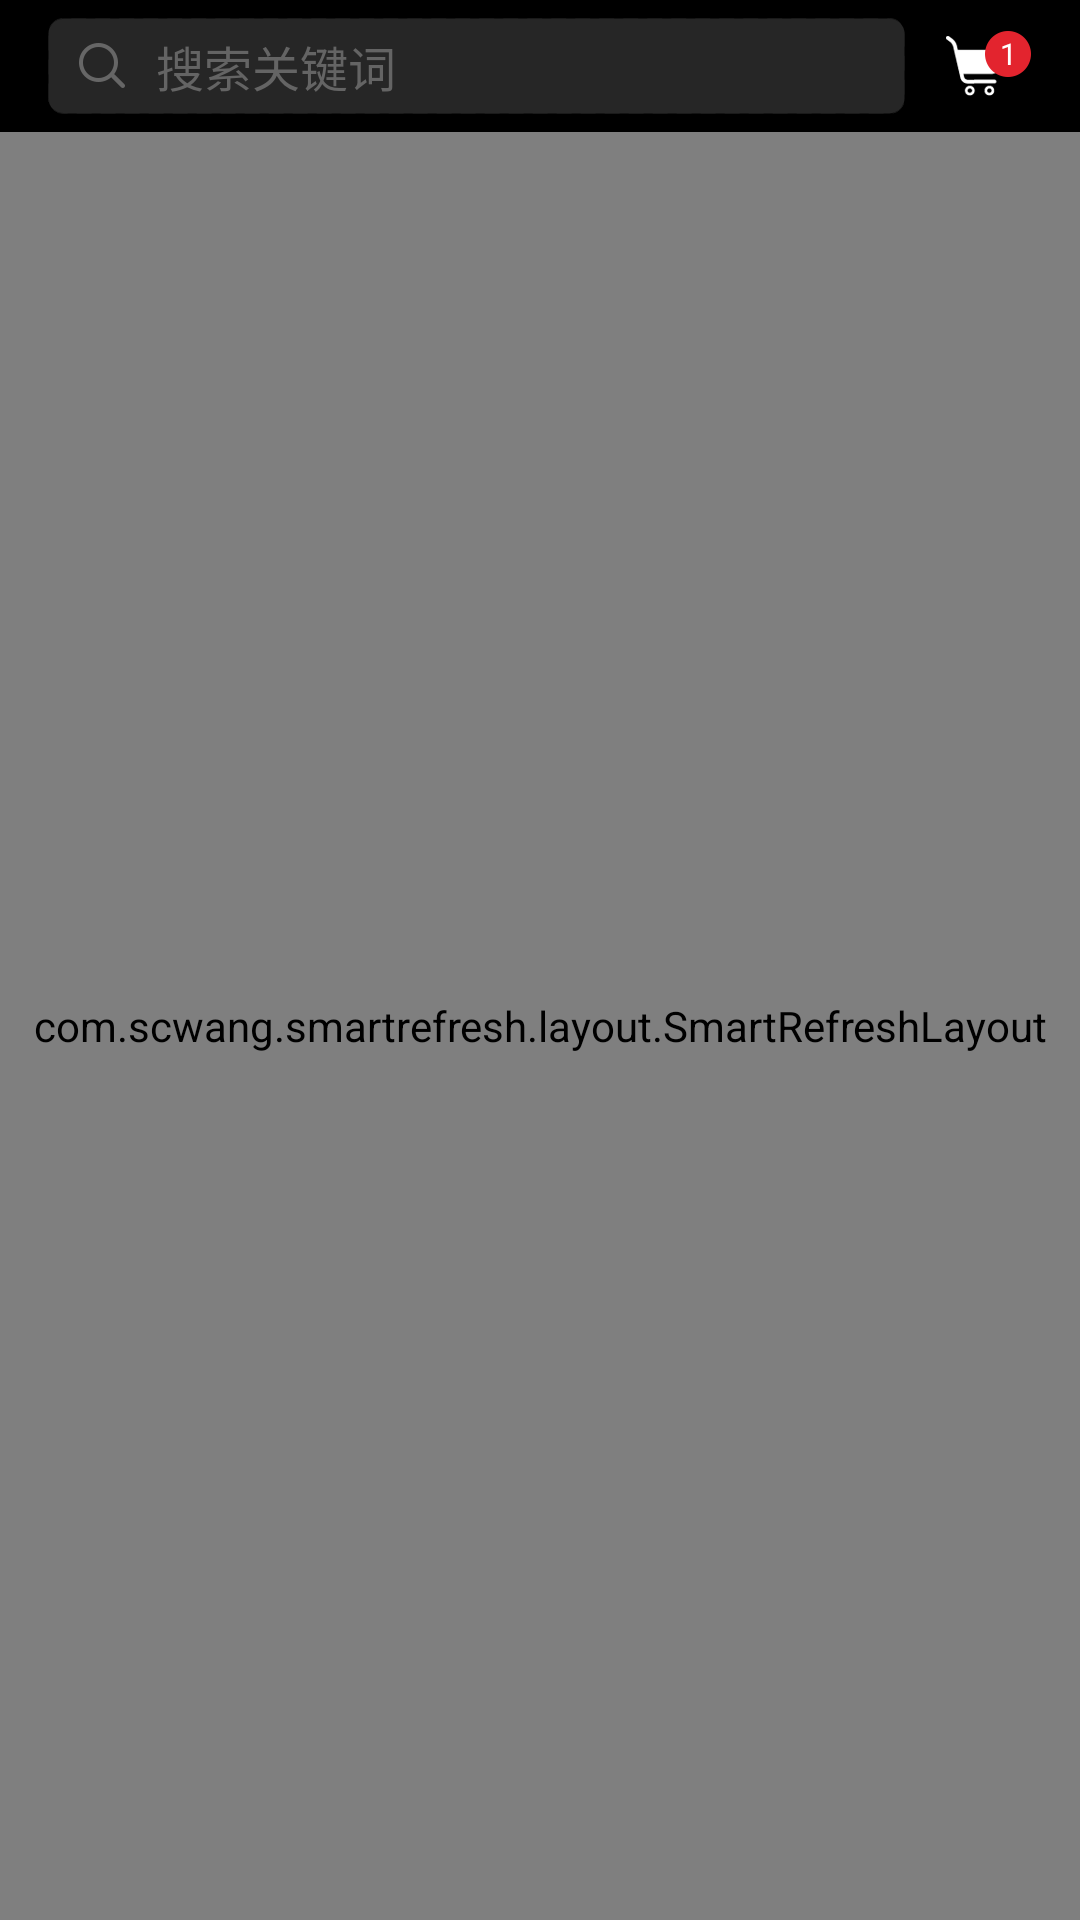

Icons on this 1080×1920 Android screen, each with the point to tap as [x,y]:
homesearch: [102,65]
homeshopcart: [979,63]
